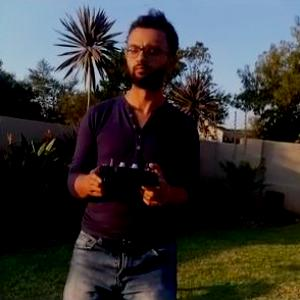follow: (63, 2, 202, 299)
